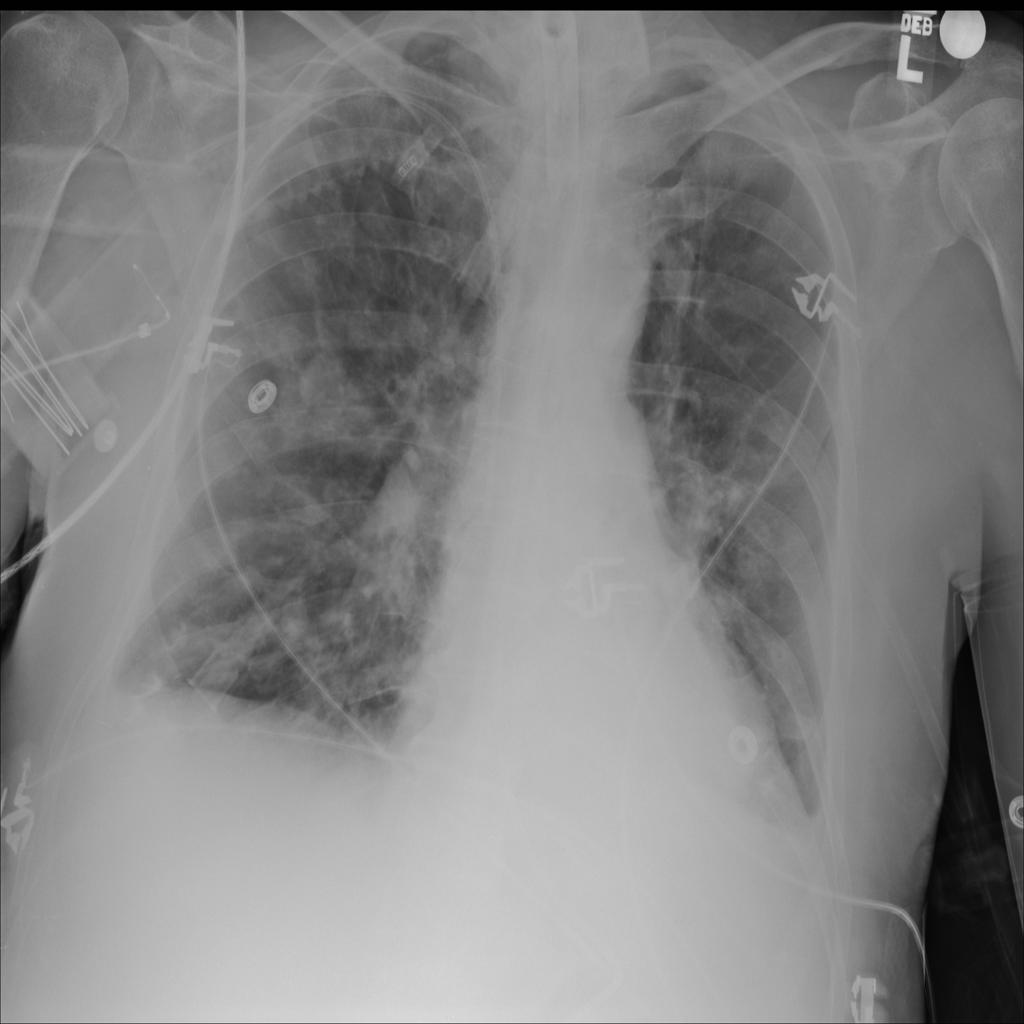nodule: (280, 329, 395, 468), (273, 234, 337, 307), (769, 685, 827, 765), (350, 181, 398, 239)
